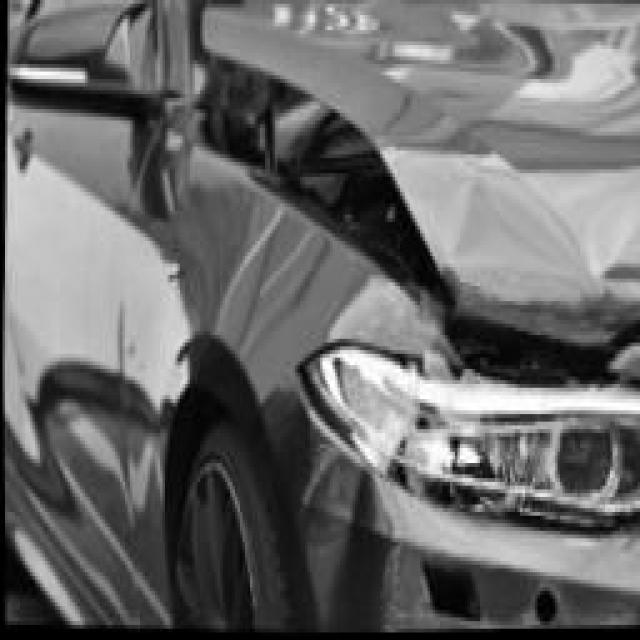Bonnet: (410, 94, 639, 373)
Bumper: (254, 376, 637, 634)
Light: (390, 365, 629, 512)
